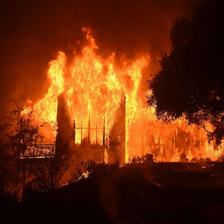fire: (20, 26, 215, 160)
